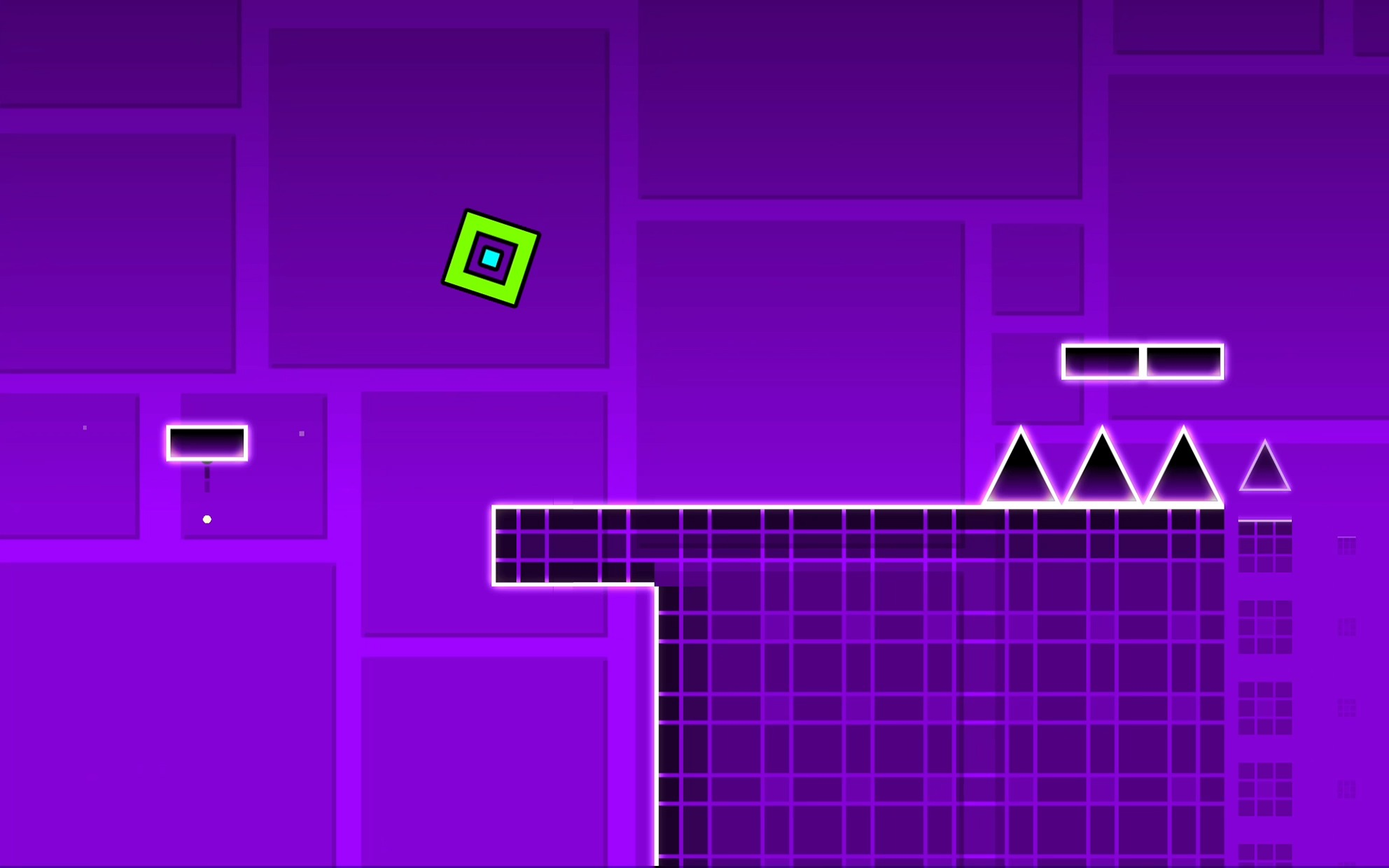Block2: (658, 508, 1226, 866), (487, 506, 660, 585)
Block3: (1061, 344, 1224, 381), (165, 426, 248, 464), (1146, 344, 1222, 378)
Spike: (1149, 428, 1219, 501), (986, 428, 1055, 502), (1068, 428, 1137, 502), (1240, 440, 1290, 491)
